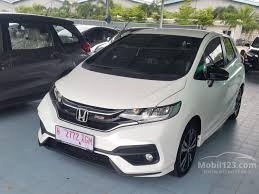plate: (55, 125, 93, 150)
